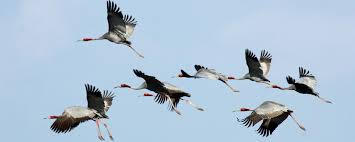seu_dau_do: (71, 1, 146, 55), (42, 82, 112, 138), (111, 73, 187, 116), (232, 101, 309, 136), (269, 67, 335, 105), (226, 48, 278, 87), (170, 64, 241, 91)
